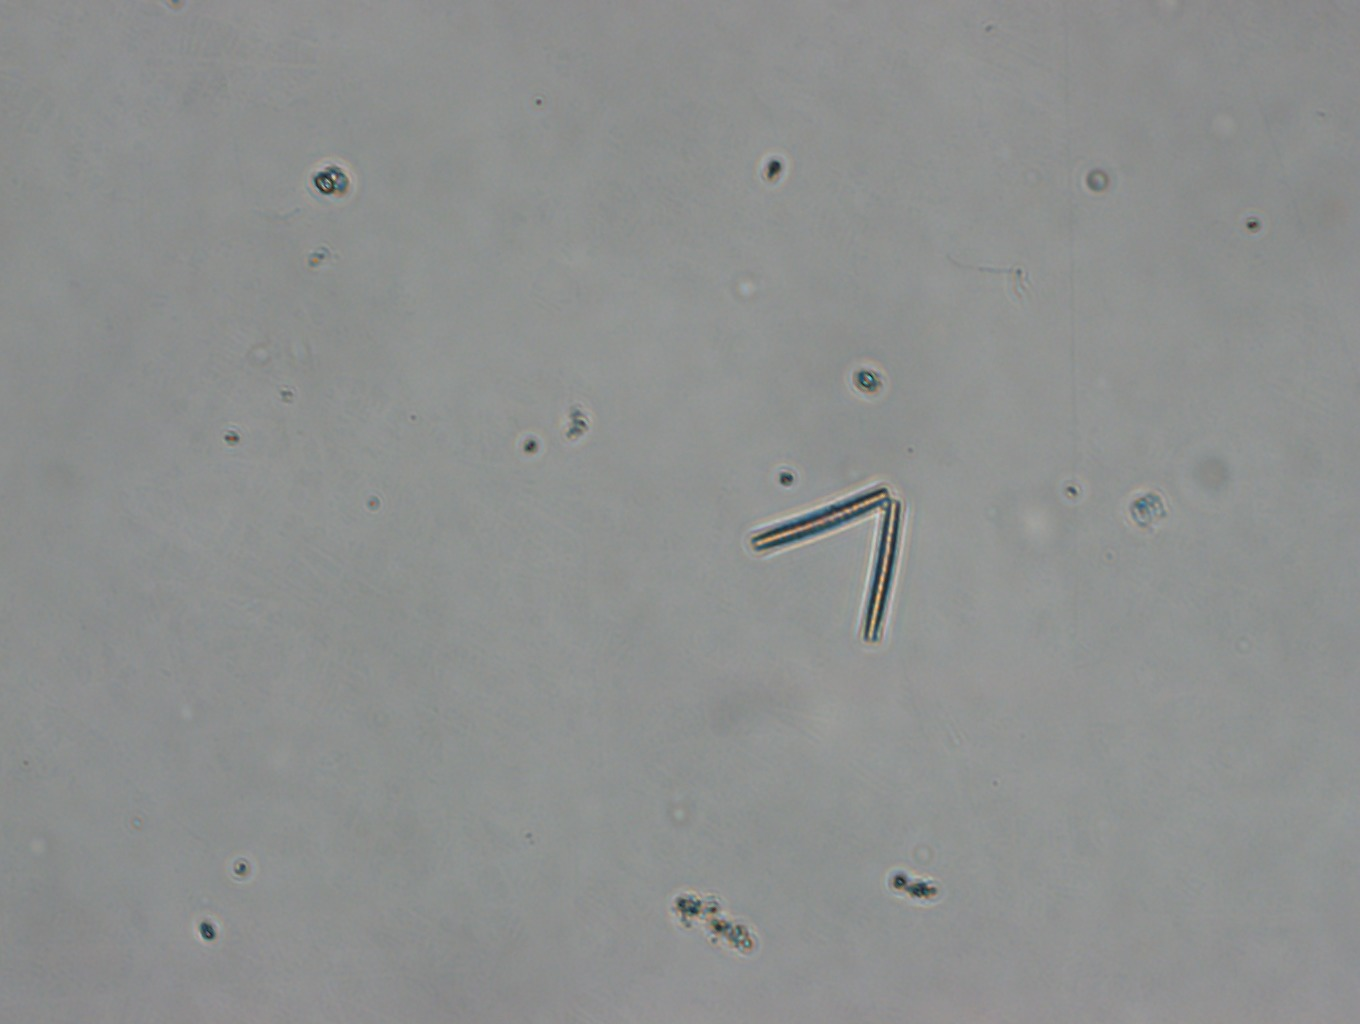thalassionema frauenfeldii: (746, 477, 906, 653)
